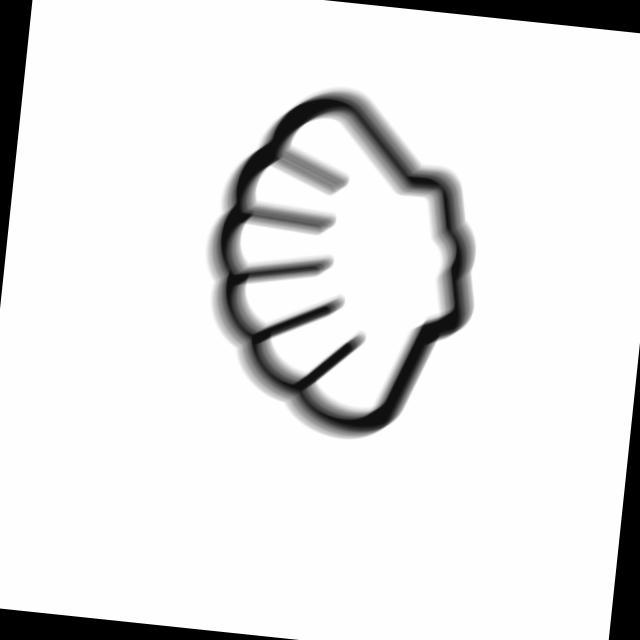shell: (183, 70, 504, 459)
